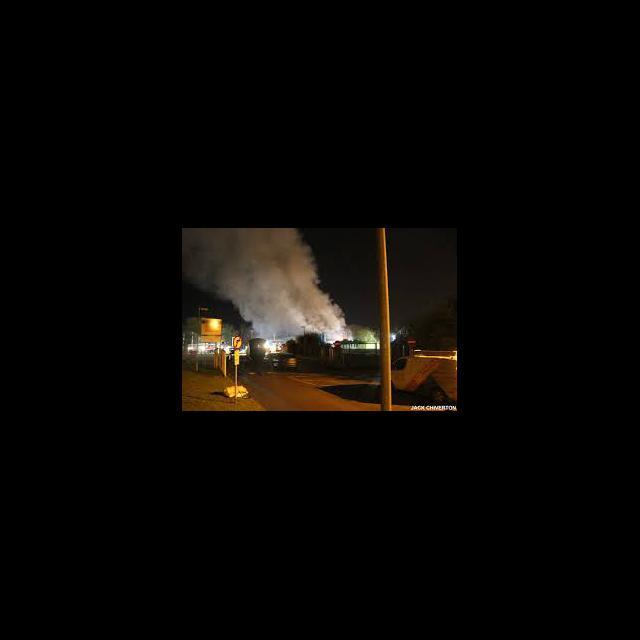Smoke: (184, 230, 348, 340)
